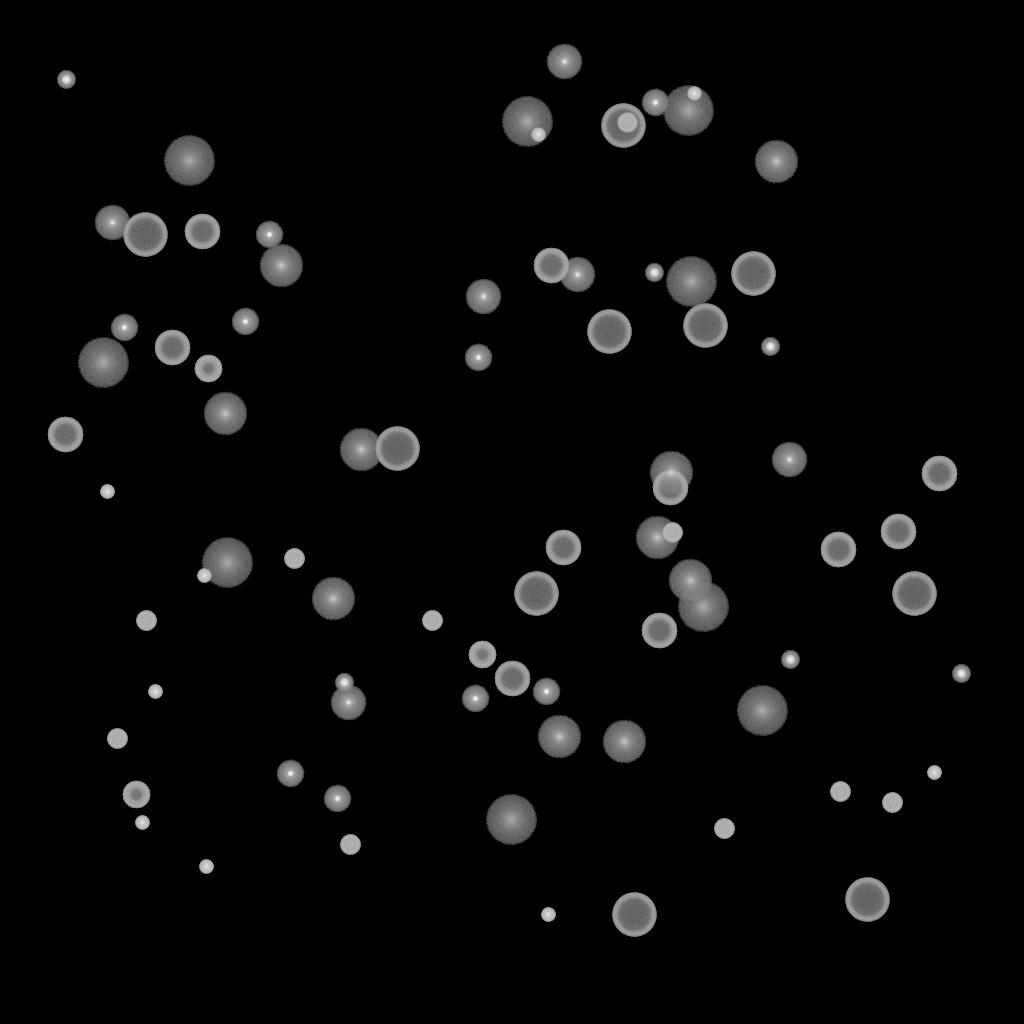depth:-10: (641, 89, 669, 117), (231, 308, 259, 336), (461, 685, 489, 713), (532, 678, 560, 706), (464, 344, 492, 372), (276, 760, 304, 788), (110, 314, 138, 342), (255, 221, 283, 249), (323, 785, 351, 813)
depth:-20: (781, 651, 799, 669), (335, 674, 353, 692), (645, 264, 663, 282), (761, 338, 779, 356), (57, 71, 75, 89), (952, 665, 970, 683)
depth:-30: (541, 908, 555, 922), (148, 685, 162, 699), (687, 87, 701, 101), (197, 569, 211, 583), (199, 860, 213, 874), (100, 485, 114, 499), (927, 766, 941, 780), (531, 128, 545, 142), (135, 816, 149, 830)
depth:-40: (882, 793, 902, 813), (617, 113, 637, 133), (662, 523, 682, 543), (714, 819, 734, 839), (284, 549, 304, 569), (340, 835, 360, 855), (422, 611, 442, 631), (830, 782, 850, 802), (107, 729, 127, 749), (136, 611, 156, 631)
depth:-50: (468, 641, 496, 669), (194, 355, 222, 383), (122, 781, 150, 809)
depth:-60: (154, 330, 190, 366), (641, 613, 677, 649), (921, 456, 957, 492), (545, 530, 581, 566), (47, 417, 83, 453), (880, 514, 916, 550), (184, 214, 220, 250), (820, 532, 856, 568), (533, 248, 569, 284), (652, 470, 688, 506), (494, 661, 530, 697)
depth:-70: (731, 252, 775, 296), (514, 572, 558, 616), (683, 304, 727, 348), (612, 893, 656, 937), (845, 878, 889, 922), (892, 572, 936, 616), (587, 310, 631, 354), (375, 427, 419, 471), (123, 213, 167, 257), (601, 104, 645, 148)
depth:0: (559, 257, 595, 293), (771, 442, 807, 478), (330, 685, 366, 721), (465, 279, 501, 315), (94, 205, 130, 241), (546, 44, 582, 80)
depth:10: (635, 516, 679, 560), (602, 720, 646, 764), (537, 715, 581, 759), (259, 244, 303, 288), (668, 559, 712, 603), (311, 577, 355, 621), (754, 140, 798, 184), (649, 451, 693, 495), (339, 428, 383, 472), (203, 392, 247, 436)
depth:20: (736, 686, 788, 736), (662, 86, 714, 136), (201, 538, 253, 588), (163, 136, 215, 186), (485, 795, 537, 845), (677, 582, 729, 632), (501, 97, 553, 147), (665, 257, 717, 307), (77, 338, 129, 388)
